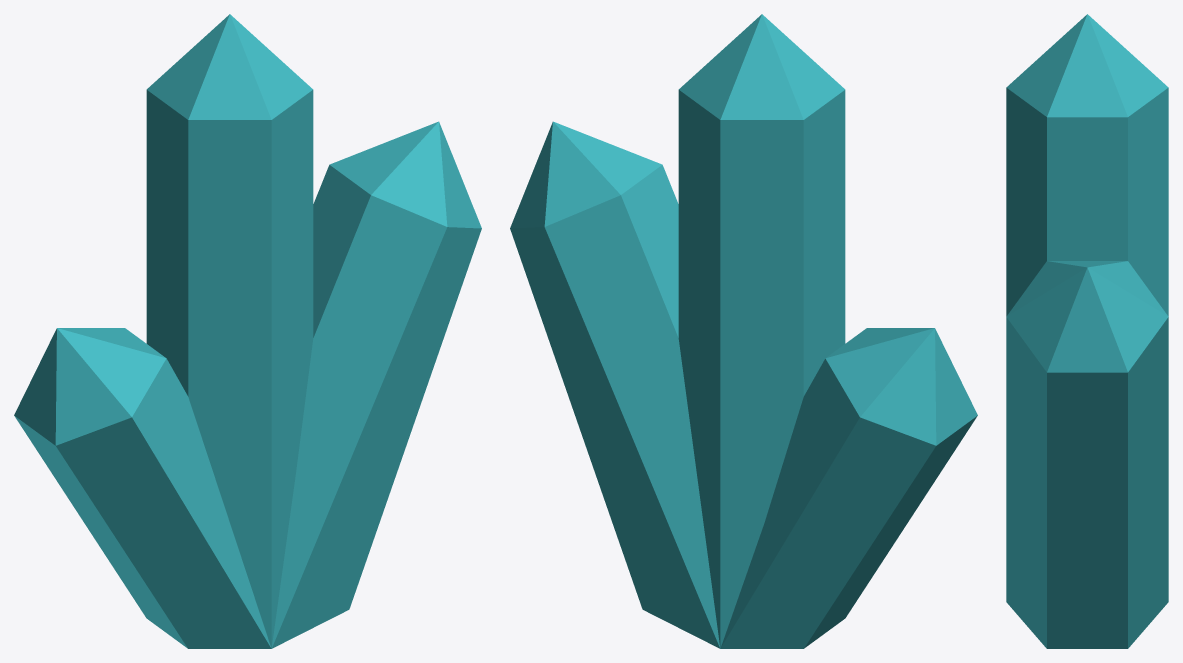
Rendered from turquoise_cave_crystal.obj.
The picture shows the model from 3 angles, left to right: view 1: azimuth 30°, elevation 25°; view 2: azimuth 150°, elevation 25°; view 3: azimuth 270°, elevation 25°; orthographic projection. The views are drawn at different scales.
Parts seen in each view (by area): view 1: main; view 2: main; view 3: main.
Boxes of the visible parts, x1,y1,x2,y2 form: main: [14, 14, 481, 648]; main: [510, 14, 977, 648]; main: [1006, 14, 1168, 648].
Bounding box in the file's own units: 0.7381 × 1 × 0.25.
